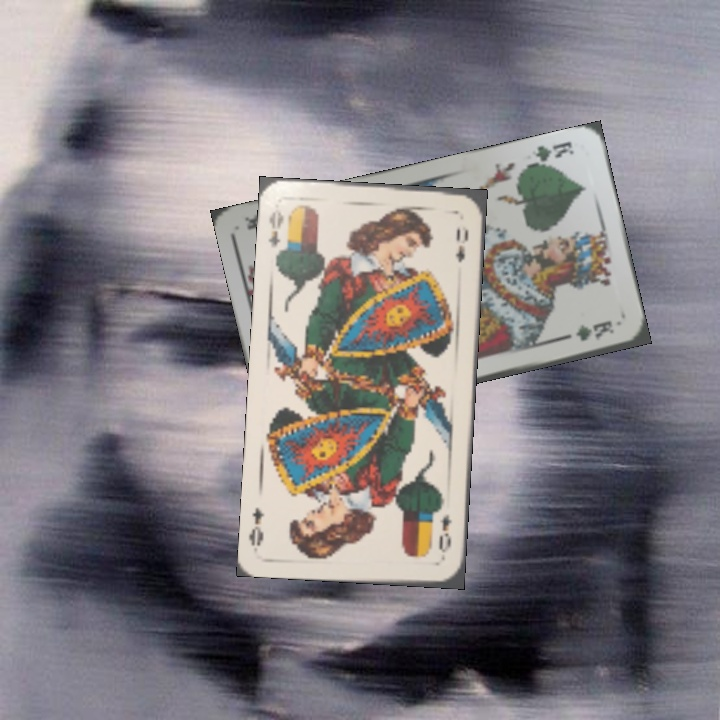EO: (434, 511, 455, 562), (265, 205, 286, 250)
GK: (523, 137, 576, 172)
